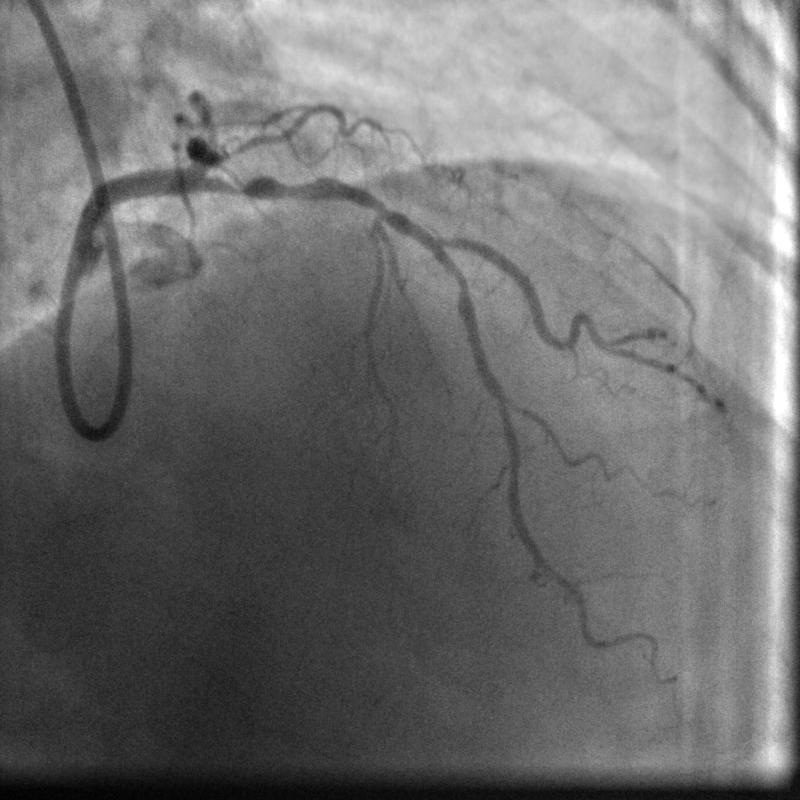Stenosis: (220, 163, 333, 201)
